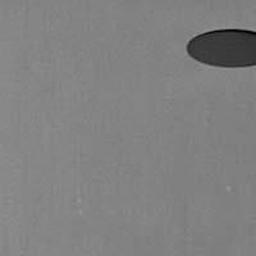Punching: (184, 28, 256, 69)
